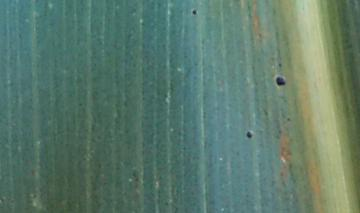tarspot: (274, 74, 286, 88), (245, 130, 253, 139), (190, 6, 198, 15), (285, 115, 293, 122)
